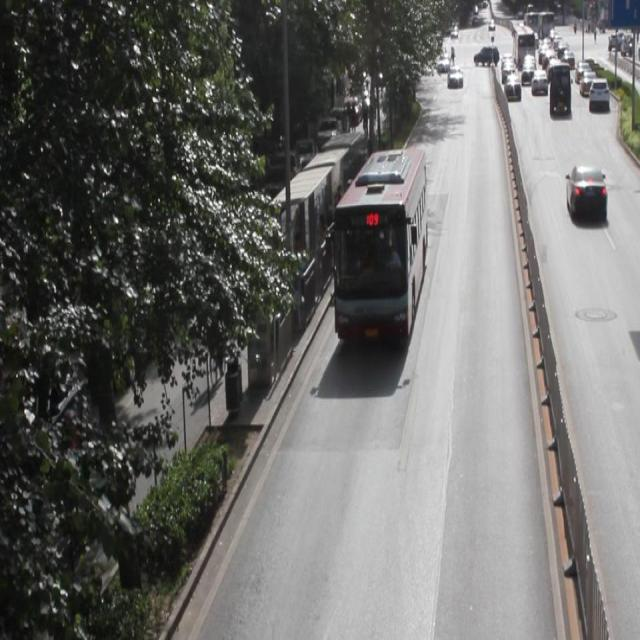car: (564, 161, 607, 222)
van: (334, 144, 425, 338)
